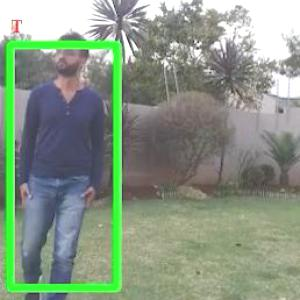follow: (13, 13, 107, 299)
